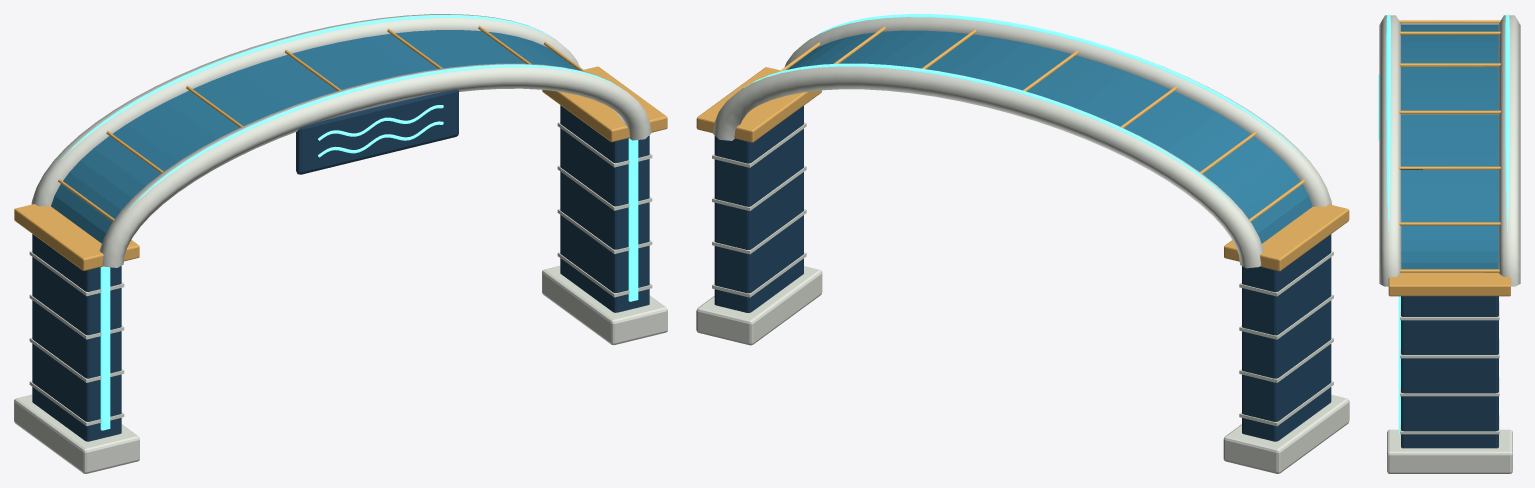
Rendered from wave_pavilion_lod0.glb.
3 views of the same model, side by side, from view 1: azimuth 30°, elevation 25°; view 2: azimuth 150°, elevation 25°; view 3: azimuth 270°, elevation 25° (orthographic). The views are drawn at different scales.
Visible parts, largest first — view 1: ivory_stone, navy_ceramic, blue_canopy, cyan_light, warm_brass; view 2: ivory_stone, navy_ceramic, blue_canopy, warm_brass, cyan_light; view 3: blue_canopy, ivory_stone, navy_ceramic, warm_brass, cyan_light.
Boxes of the visible parts, bbox=[...] form: ivory_stone: bbox=[14, 14, 667, 473]; navy_ceramic: bbox=[32, 89, 649, 441]; blue_canopy: bbox=[51, 30, 578, 243]; cyan_light: bbox=[61, 14, 638, 430]; warm_brass: bbox=[14, 25, 667, 270]; ivory_stone: bbox=[696, 17, 1349, 473]; navy_ceramic: bbox=[714, 106, 1331, 441]; blue_canopy: bbox=[787, 30, 1312, 243]; warm_brass: bbox=[696, 26, 1349, 271]; cyan_light: bbox=[744, 14, 1303, 207]; blue_canopy: bbox=[1401, 24, 1498, 269]; ivory_stone: bbox=[1379, 15, 1520, 473]; navy_ceramic: bbox=[1401, 296, 1498, 448]; warm_brass: bbox=[1388, 20, 1510, 296]; cyan_light: bbox=[1378, 14, 1509, 434].
Size of the model in its own units: 16.95 by 8.89 by 4.07.
